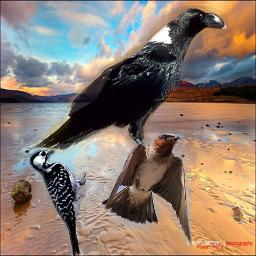Crow: (32, 6, 228, 163)
Swallow: (102, 133, 192, 246)
Woodpecker: (29, 146, 86, 256)
